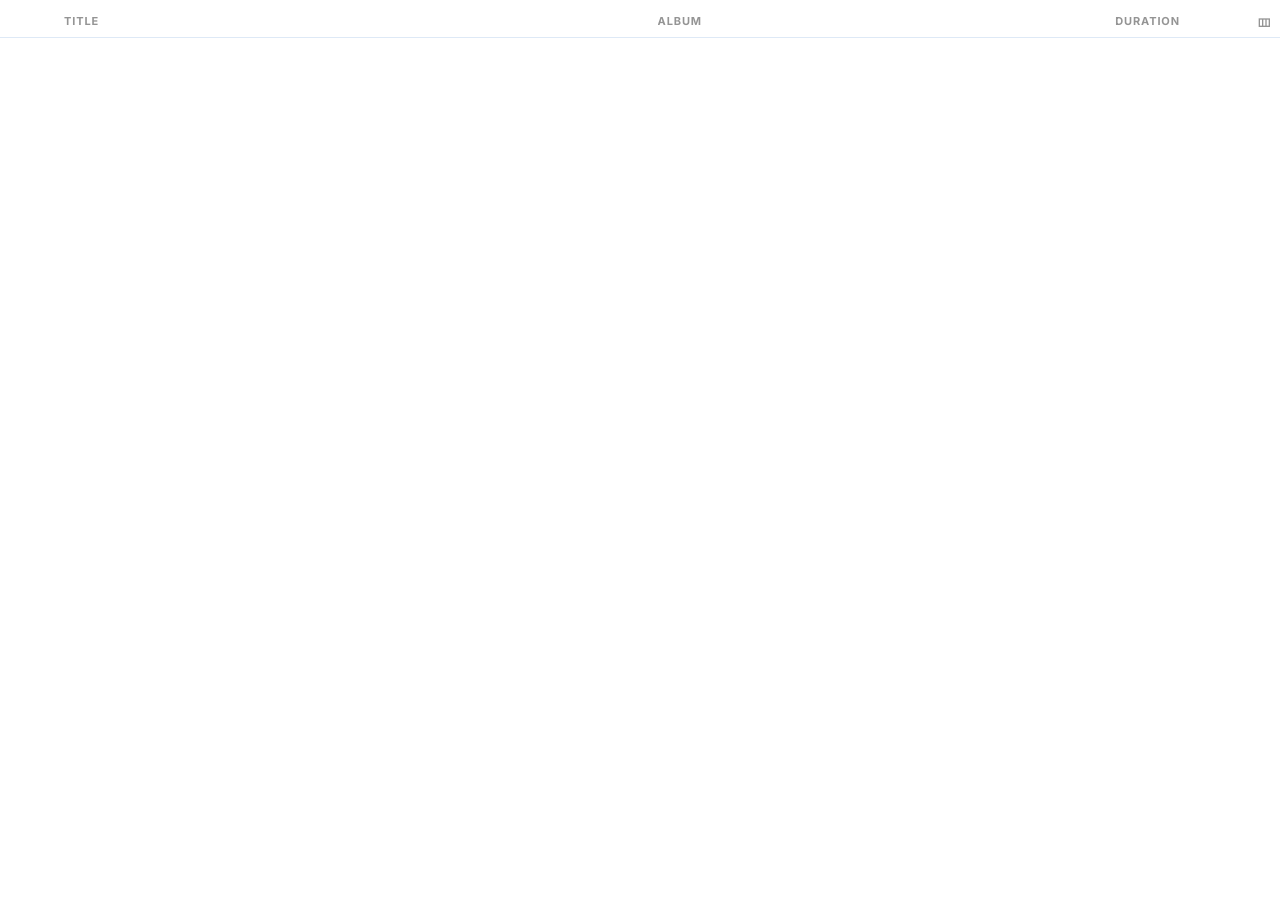
Test: the song table column menu › greys out what this server cannot fill, and says why
This screenshot has width=1280, height=912.
Click the button with class "column-menu-button" at coordinates (1264, 23), box x1=1256 y1=15 x2=1272 y2=31
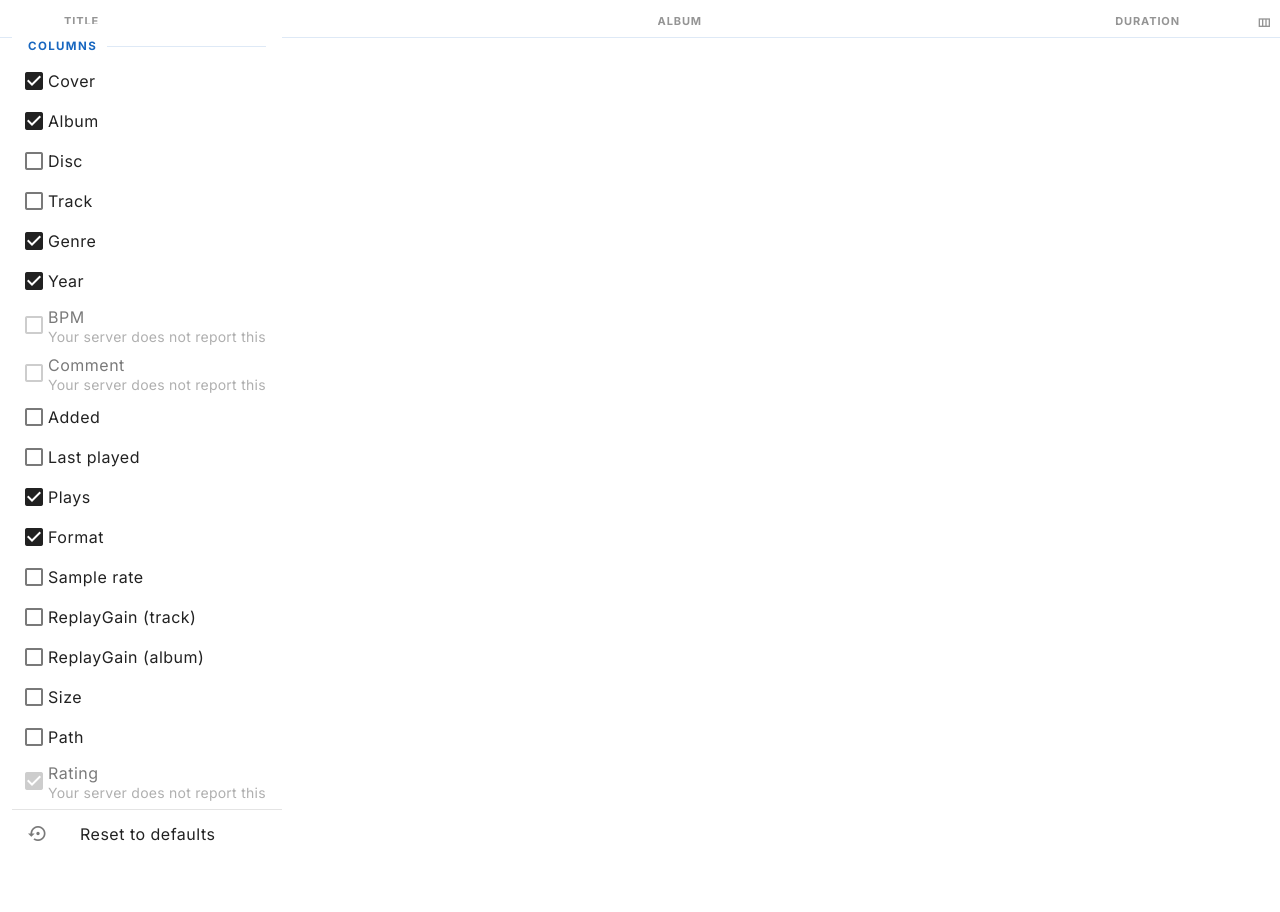
Now the list item "BPM Your server does not report this" is shown, box x1=12 y1=301 x2=282 y2=349
